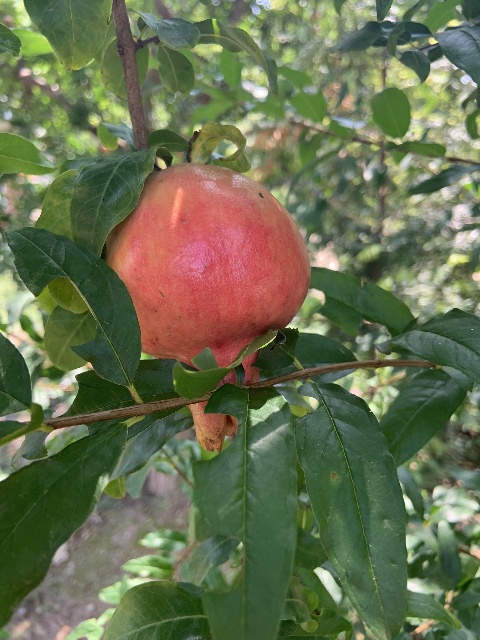ripe: (104, 163, 311, 451)
